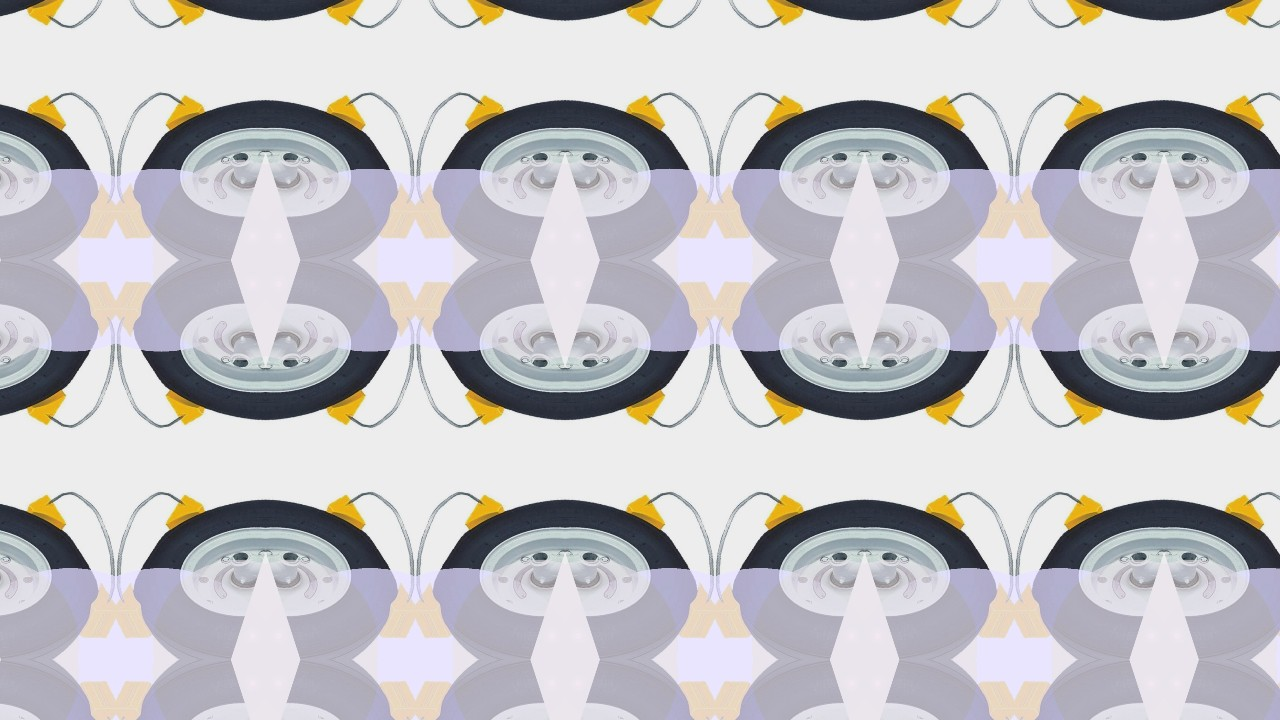chock: (66, 179, 115, 247), (115, 179, 164, 247), (366, 179, 415, 247), (415, 179, 464, 247), (666, 179, 715, 247), (715, 179, 764, 247), (966, 179, 1015, 247), (1015, 179, 1064, 247), (66, 273, 115, 341), (115, 273, 164, 341), (366, 273, 415, 341), (415, 273, 464, 341), (666, 273, 715, 341), (715, 273, 764, 341), (966, 273, 1015, 341), (1015, 273, 1064, 341), (66, 579, 115, 647), (115, 579, 164, 647), (366, 579, 415, 647), (415, 579, 464, 647), (666, 579, 715, 647), (715, 579, 764, 647), (966, 579, 1015, 647), (1015, 579, 1064, 647), (18, 89, 68, 144), (162, 89, 212, 144), (318, 89, 368, 144), (462, 89, 512, 144), (618, 89, 668, 144), (762, 89, 812, 144), (918, 89, 968, 144), (1062, 89, 1112, 144), (1218, 89, 1268, 144), (18, 376, 68, 431), (162, 376, 212, 431), (318, 376, 368, 431), (462, 376, 512, 431), (618, 376, 668, 431), (762, 376, 812, 431), (918, 376, 968, 431), (1062, 376, 1112, 431), (1218, 376, 1268, 431), (18, 489, 68, 544), (162, 489, 212, 544), (318, 489, 368, 544), (462, 489, 512, 544), (618, 489, 668, 544), (762, 489, 812, 544), (918, 489, 968, 544), (1062, 489, 1112, 544), (1218, 489, 1268, 544), (66, 673, 115, 720), (115, 673, 164, 720), (366, 673, 415, 720), (415, 673, 464, 720), (666, 673, 715, 720), (715, 673, 764, 720), (966, 673, 1015, 720), (1015, 673, 1064, 720), (18, 0, 68, 31), (162, 0, 212, 31), (318, 0, 368, 31), (462, 0, 512, 31), (618, 0, 668, 31), (762, 0, 812, 31), (918, 0, 968, 31), (1062, 0, 1112, 31), (1218, 0, 1268, 31), (1266, 179, 1280, 247), (1266, 273, 1280, 341), (1266, 579, 1280, 647), (1266, 673, 1280, 720)
wheel: (117, 66, 265, 260), (265, 66, 413, 260), (417, 66, 565, 260), (565, 66, 713, 260), (717, 66, 865, 260), (865, 66, 1013, 260), (1017, 66, 1165, 260), (117, 260, 265, 454), (265, 260, 413, 454), (417, 260, 565, 454), (565, 260, 713, 454), (717, 260, 865, 454), (865, 260, 1013, 454), (1017, 260, 1165, 454), (117, 466, 265, 660), (265, 466, 413, 660), (417, 466, 565, 660), (565, 466, 713, 660), (717, 466, 865, 660), (865, 466, 1013, 660), (1017, 466, 1165, 660), (1165, 66, 1280, 260), (1165, 260, 1280, 454), (1165, 466, 1280, 660), (0, 66, 113, 260), (0, 260, 113, 454), (0, 466, 113, 660), (117, 660, 265, 720), (265, 660, 413, 720), (417, 660, 565, 720), (565, 660, 713, 720), (717, 660, 865, 720), (865, 660, 1013, 720), (1017, 660, 1165, 720), (117, 0, 265, 54), (265, 0, 413, 54), (417, 0, 565, 54), (565, 0, 713, 54), (717, 0, 865, 54), (865, 0, 1013, 54), (1017, 0, 1165, 54), (1165, 660, 1280, 720), (0, 660, 113, 720), (1165, 0, 1280, 54), (0, 0, 113, 54)
